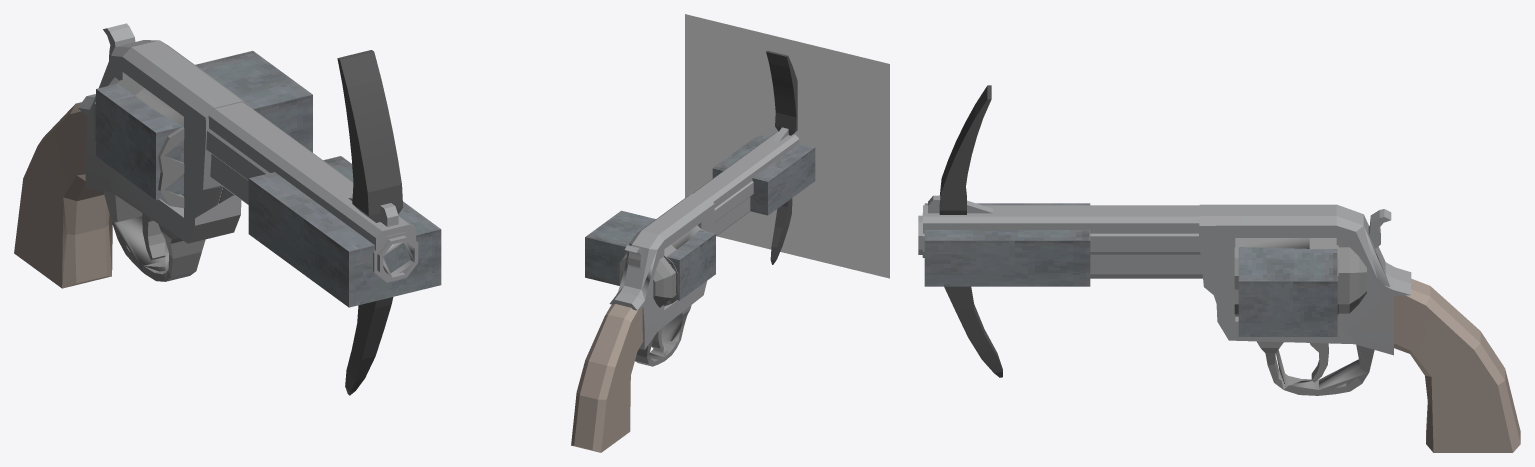
Rendered from item_arena_pistol.glb.
3 views of the same model, side by side, from view 1: azimuth 30°, elevation 25°; view 2: azimuth 150°, elevation 25°; view 3: azimuth 270°, elevation 25° (orthographic). The views are drawn at different scales.
Visible parts, largest first — view 1: RevolverMain_submesh_2, Cube (×2), RevolverMain_submesh_1, Pickaxe_col_head, RevolverMain_submesh_0, RevolverCylinder_submesh_1, RevolverHammer; view 2: Quad, RevolverMain_submesh_2, Cube (×2), RevolverMain_submesh_1, Pickaxe_col_head, RevolverMain_submesh_0, RevolverCylinder_submesh_1, RevolverHammer; view 3: RevolverMain_submesh_2, Cube (×2), RevolverMain_submesh_1, RevolverMain_submesh_0, Pickaxe_col_head, RevolverCylinder_submesh_1.
Part boxes in pixels (<box>): RevolverMain_submesh_2: <box>78,40,418,282</box>; Cube (×2): <box>96,50,441,307</box>; RevolverMain_submesh_1: <box>14,102,112,288</box>; Pickaxe_col_head: <box>337,50,403,395</box>; RevolverMain_submesh_0: <box>94,77,205,281</box>; RevolverCylinder_submesh_1: <box>117,76,184,208</box>; RevolverHammer: <box>103,23,135,60</box>; Quad: <box>685,14,889,278</box>; RevolverMain_submesh_2: <box>609,127,799,349</box>; Cube (×2): <box>585,134,815,300</box>; RevolverMain_submesh_1: <box>571,304,643,452</box>; Pickaxe_col_head: <box>766,50,797,264</box>; RevolverMain_submesh_0: <box>619,256,691,366</box>; RevolverCylinder_submesh_1: <box>621,225,703,306</box>; RevolverHammer: <box>624,245,644,269</box>; RevolverMain_submesh_2: <box>918,195,1411,355</box>; Cube (×2): <box>924,203,1337,336</box>; RevolverMain_submesh_1: <box>1394,278,1520,452</box>; RevolverMain_submesh_0: <box>1256,247,1374,395</box>; Pickaxe_col_head: <box>939,85,1002,377</box>; RevolverCylinder_submesh_1: <box>1234,238,1338,316</box>.
Bounding box in the file's own units: 0.2135 × 0.2616 × 0.3964.
Materials: 7 (1 with a texture image).
